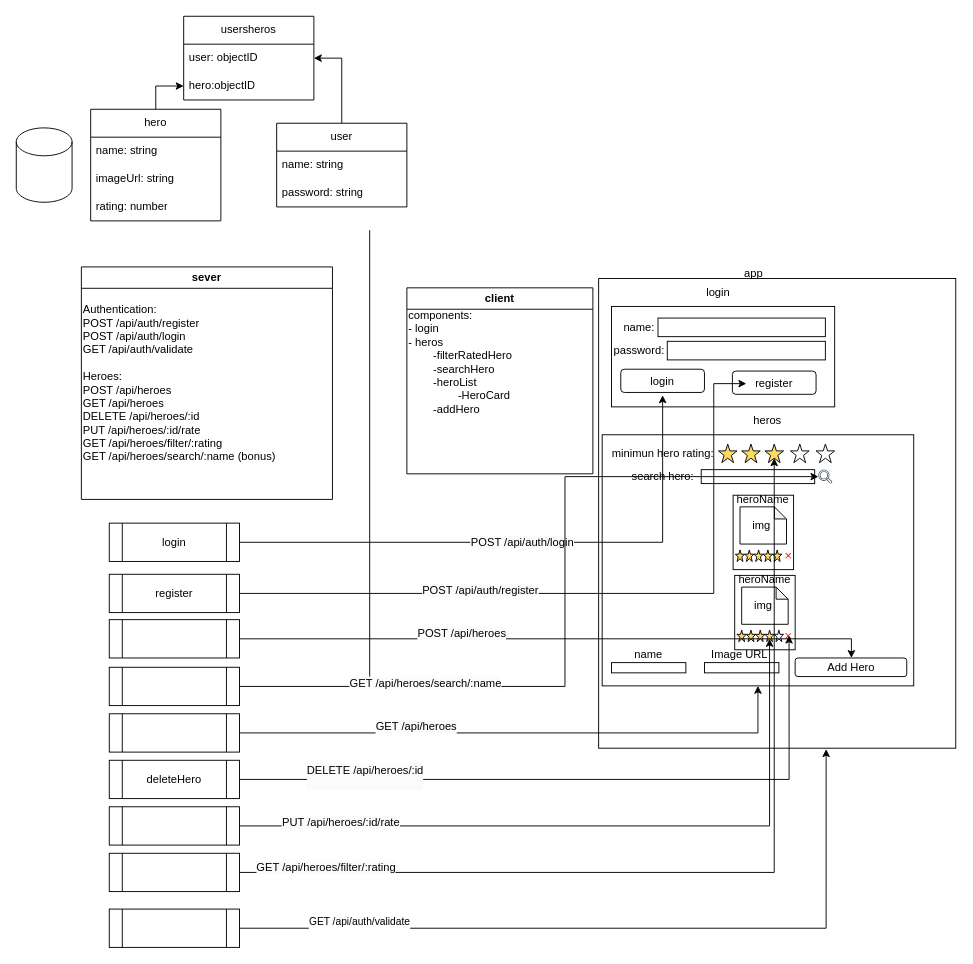
Image size: 973x964. Some labels were removed from this diagram. Here are the shapes that lost their labels. From the top down, the centre of each, then its label:
(173,638): addHero
(173,686): searchHeros
(173,732): getHeros
(173,825): rateHero
(173,872): filterRatedHeros
(173,927): validateUser
